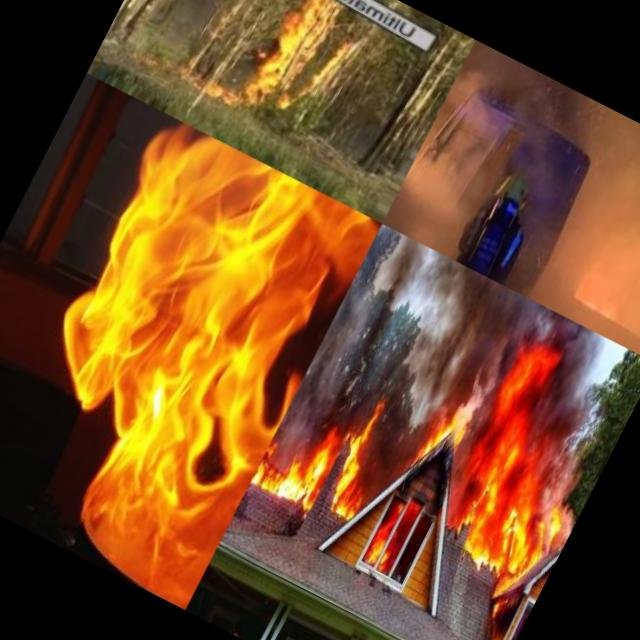fire: (0, 112, 382, 609), (224, 0, 375, 149), (442, 436, 550, 571), (483, 332, 571, 448), (247, 415, 343, 519), (496, 489, 569, 586), (326, 416, 398, 514), (408, 397, 470, 479), (366, 507, 416, 574)
smoke: (272, 228, 438, 471), (452, 40, 640, 226), (389, 254, 551, 411), (510, 322, 620, 466), (358, 376, 447, 520), (526, 443, 594, 542), (428, 425, 494, 515), (533, 474, 595, 566)
